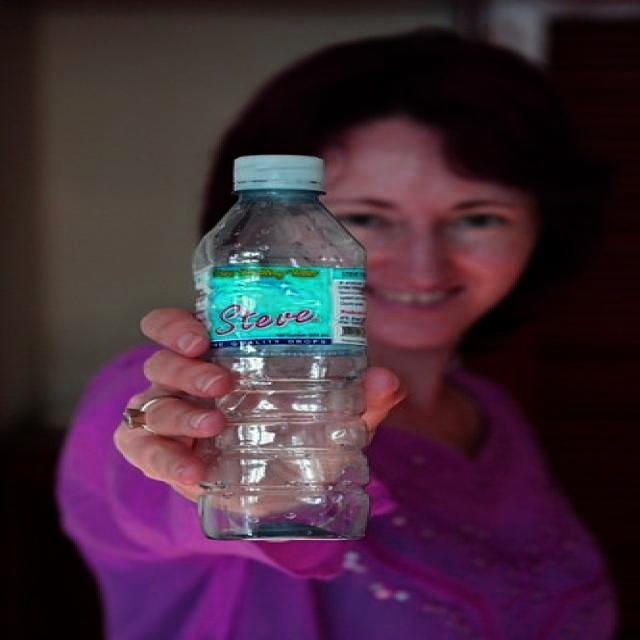bottle: (193, 156, 369, 543)
